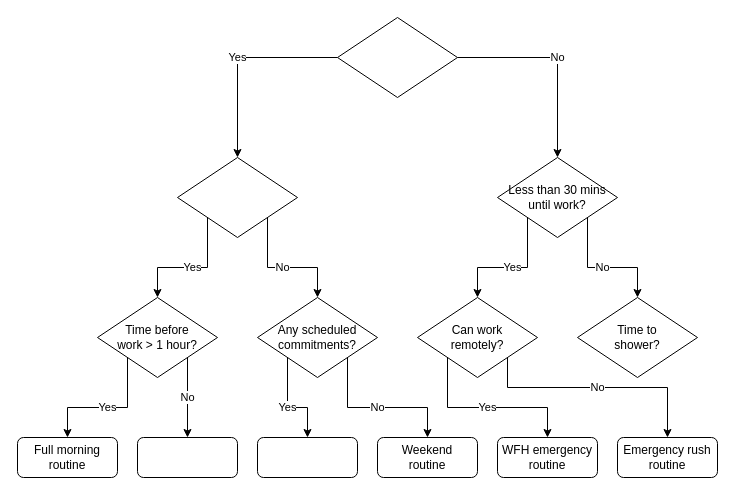
Some shapes in this 735 by 495 pixel diagram are drawn without their labels. Here are the shapes that lost their labels. From the top down, the centre of each, then its label:
(397,57): Wake up to alarm?
(237,197): Is it a workday?
(187,457): Quick morning routine
(307,457): Modified work routine
